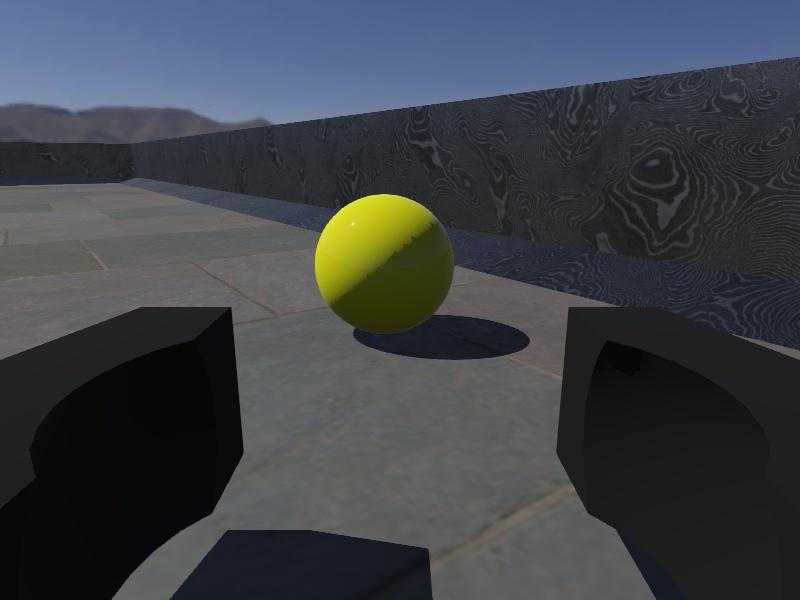yellow ball: (314, 193, 455, 337)
